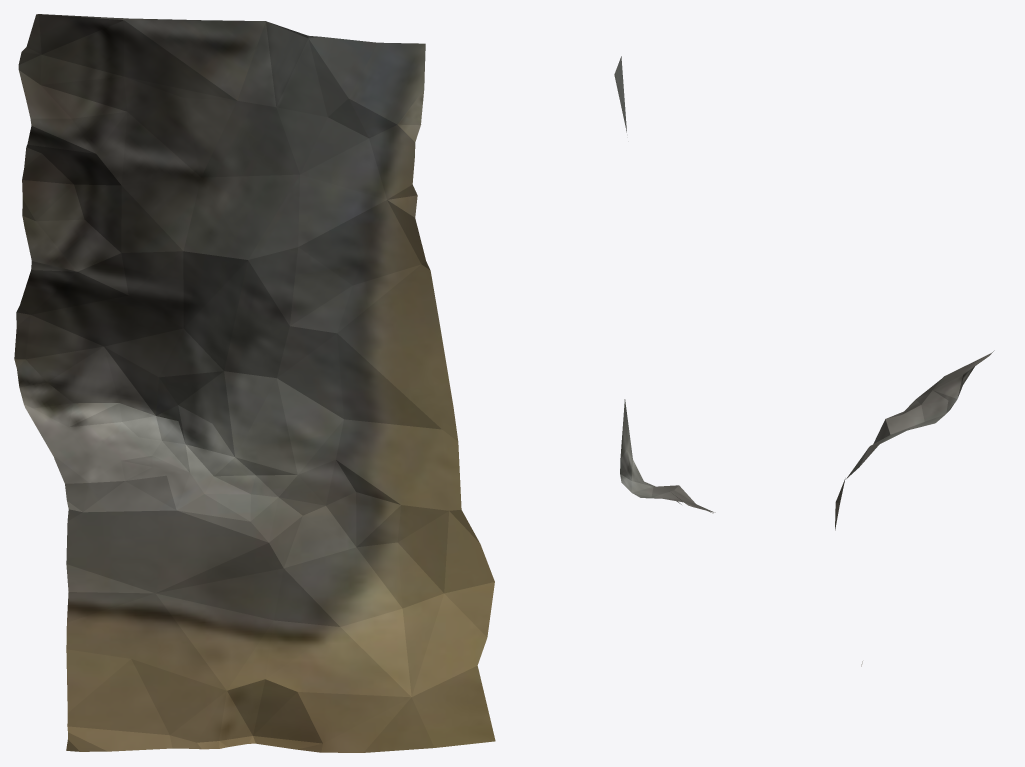
3 renders of one model, left to right at view 1: azimuth 30°, elevation 25°; view 2: azimuth 150°, elevation 25°; view 3: azimuth 270°, elevation 25°, orthographic. The views are drawn at different scales.
Bounding box in the file's own units: 0.4068 × 0.8374 × 0.3174.
Materials: 1 (1 with a texture image).
